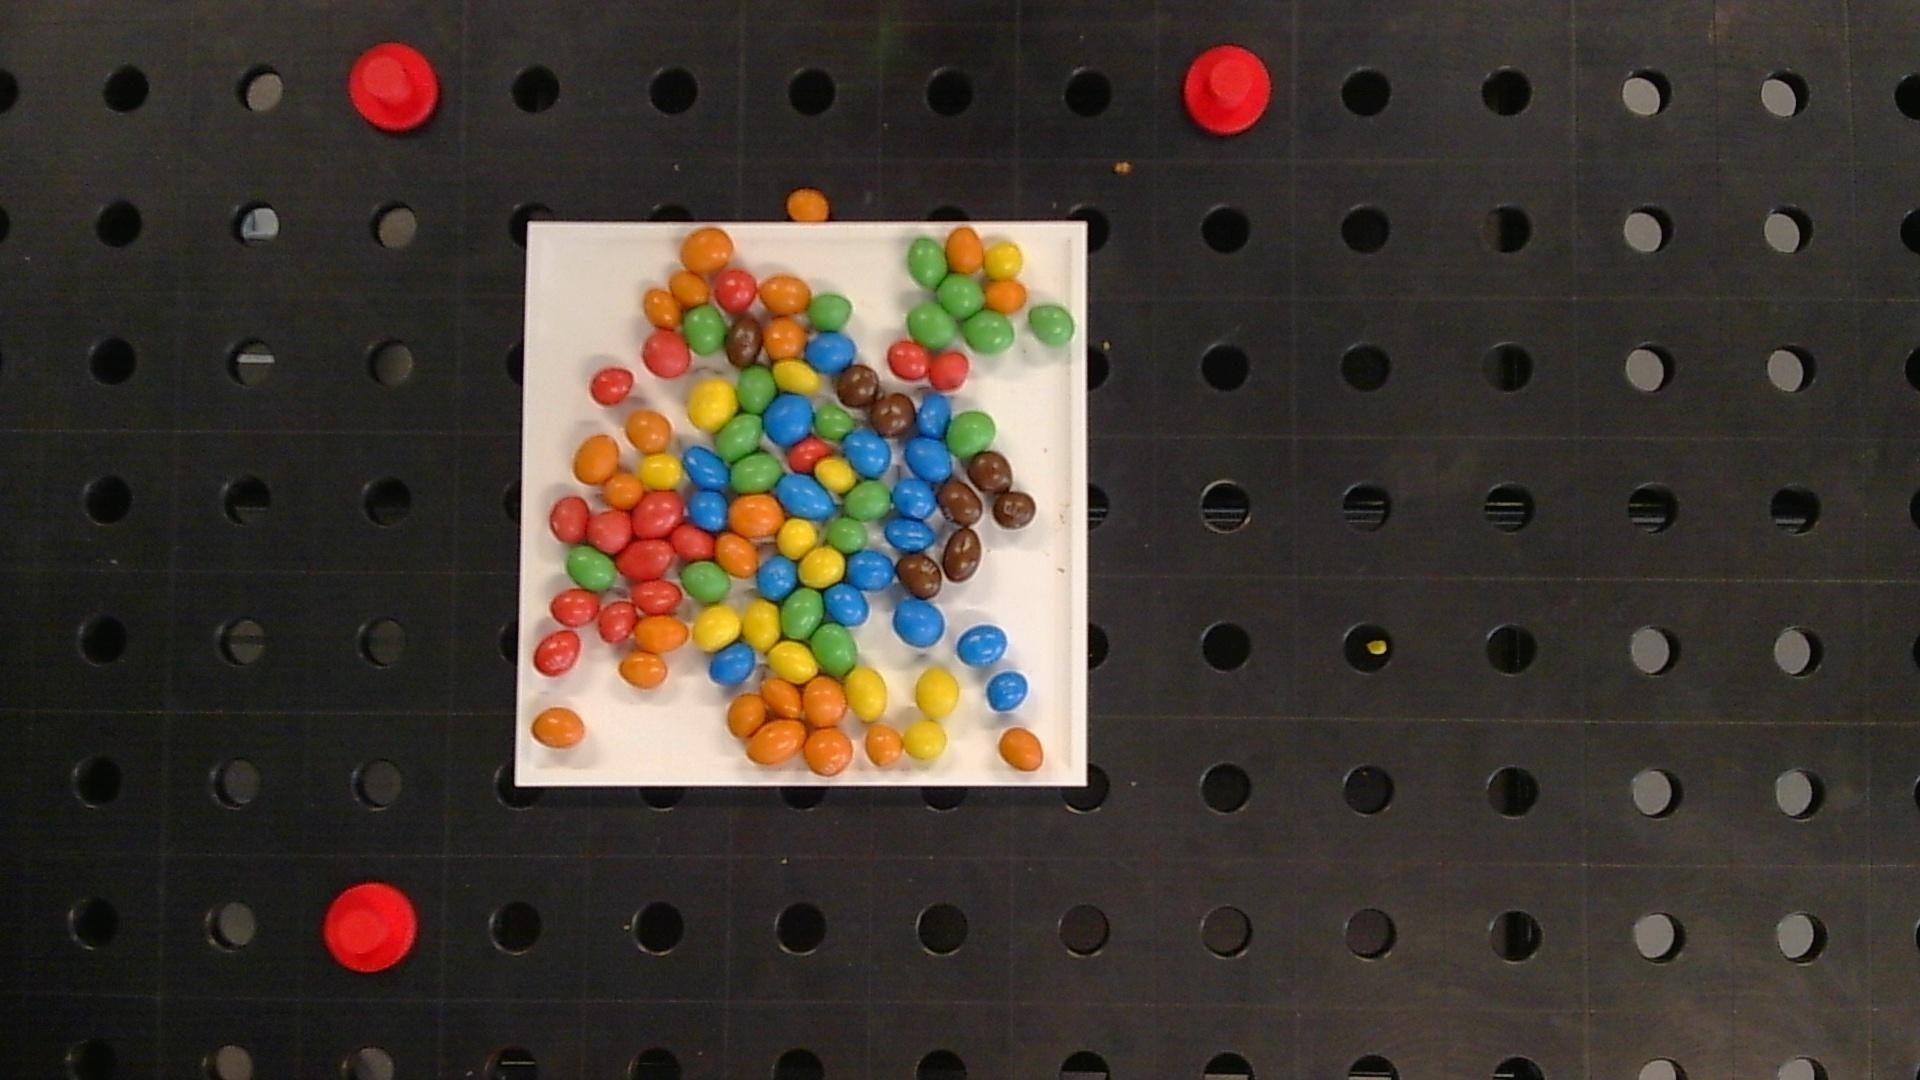blue: (886, 518, 942, 599), (777, 472, 836, 518), (893, 597, 944, 646), (765, 394, 812, 444), (845, 430, 890, 476), (905, 436, 951, 481), (957, 625, 1007, 666), (804, 332, 856, 372), (709, 642, 756, 684), (847, 550, 894, 591), (893, 477, 938, 520), (683, 447, 729, 488), (824, 584, 869, 625), (988, 671, 1029, 711), (687, 489, 728, 529), (885, 518, 934, 551), (758, 556, 796, 597), (916, 394, 949, 438)
brown: (942, 529, 981, 582), (938, 479, 982, 525), (872, 393, 916, 436), (898, 554, 942, 599), (968, 452, 1011, 493), (837, 365, 878, 407), (727, 315, 761, 365), (993, 492, 1036, 529)
green: (947, 411, 996, 459), (961, 311, 1015, 353), (566, 546, 616, 591), (812, 624, 857, 674), (716, 413, 762, 460), (907, 303, 956, 348), (680, 562, 732, 604), (936, 274, 984, 318), (683, 306, 727, 353), (781, 589, 823, 638), (732, 452, 782, 492), (1029, 305, 1075, 345), (907, 239, 947, 286), (845, 481, 891, 520), (738, 367, 775, 411), (810, 293, 852, 331), (827, 516, 866, 551), (815, 406, 853, 440)
orange: (746, 719, 806, 765), (804, 728, 853, 775), (682, 228, 733, 273), (530, 708, 585, 748), (574, 434, 618, 483), (731, 495, 783, 535), (998, 728, 1044, 771), (803, 678, 845, 725), (634, 616, 688, 651), (715, 533, 758, 576), (760, 276, 810, 313), (626, 410, 670, 451), (947, 227, 984, 273), (620, 653, 667, 688), (764, 319, 806, 359), (864, 725, 903, 766), (728, 694, 766, 736), (761, 678, 802, 716), (786, 189, 829, 222), (644, 289, 680, 327), (984, 280, 1026, 313), (604, 472, 642, 506), (670, 272, 708, 305)
red: (632, 492, 683, 537), (618, 539, 673, 580), (642, 331, 690, 377), (534, 632, 580, 675), (588, 509, 632, 551), (550, 497, 589, 543), (715, 270, 757, 311), (551, 589, 599, 625), (887, 342, 931, 380), (589, 367, 634, 404), (597, 601, 636, 644), (632, 580, 679, 613), (670, 525, 715, 558), (789, 438, 832, 471), (932, 352, 969, 389)
yellow: (687, 380, 737, 429), (845, 667, 887, 721), (766, 641, 818, 684), (915, 669, 960, 717), (692, 605, 740, 650), (799, 547, 845, 587), (742, 600, 779, 649), (903, 720, 947, 760), (774, 360, 819, 394), (777, 520, 818, 556), (640, 454, 682, 488), (985, 243, 1023, 280), (816, 458, 855, 492)
